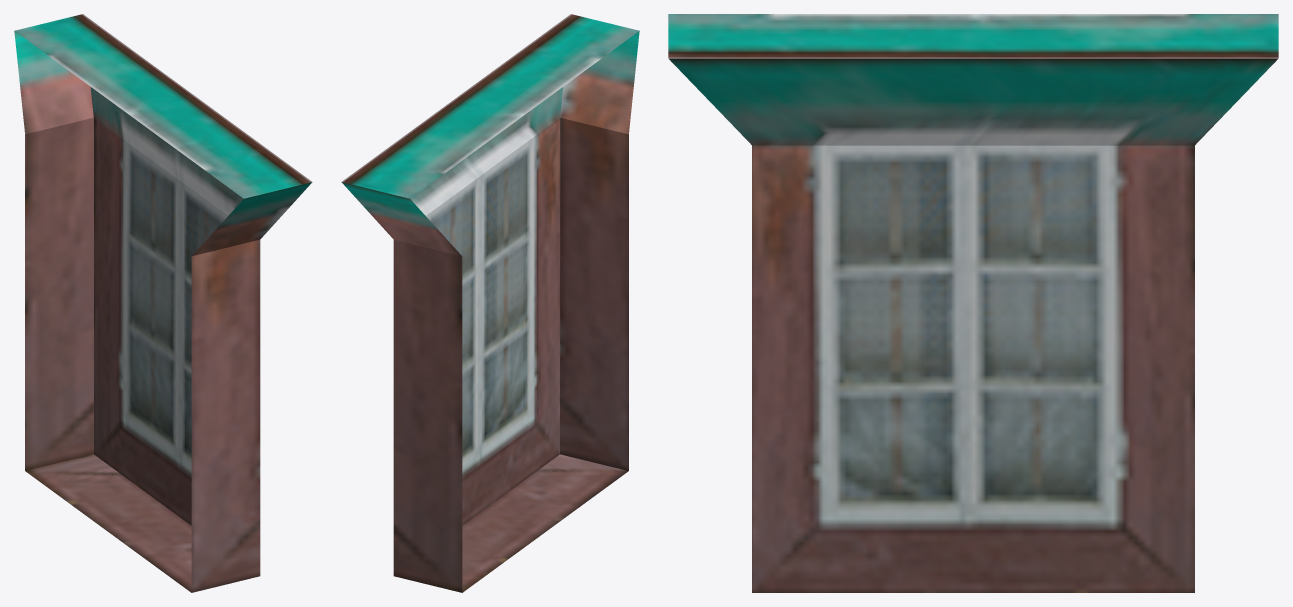
The model's file is Window002.fbx.
3 views of the same model, side by side, from view 1: azimuth 30°, elevation 25°; view 2: azimuth 150°, elevation 25°; view 3: azimuth 270°, elevation 25° (orthographic). The views are drawn at different scales.
Visible parts, largest first — view 1: Window002; view 2: Window002; view 3: Window002.
Boxes of the visible parts, x1,y1,x2,y2 form: Window002: (14, 14, 312, 592); Window002: (341, 14, 639, 592); Window002: (668, 14, 1278, 592).
Size of the model in its own units: 30.18 by 134 by 133.
